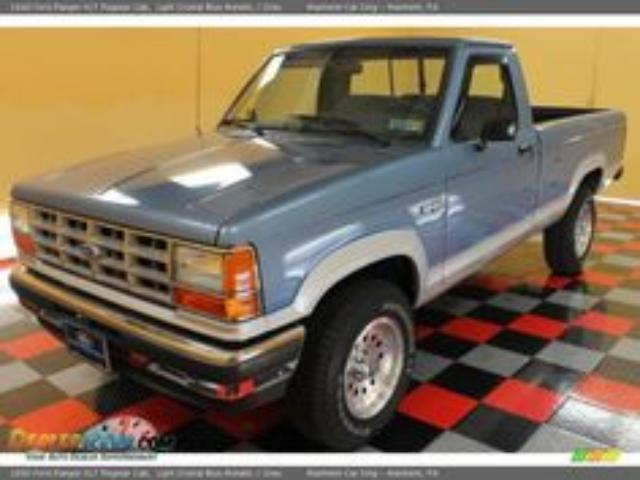pickup-truck: (5, 35, 629, 450)
